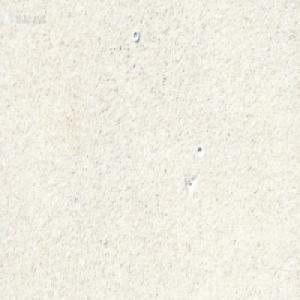Washer: (132, 28, 139, 41)
